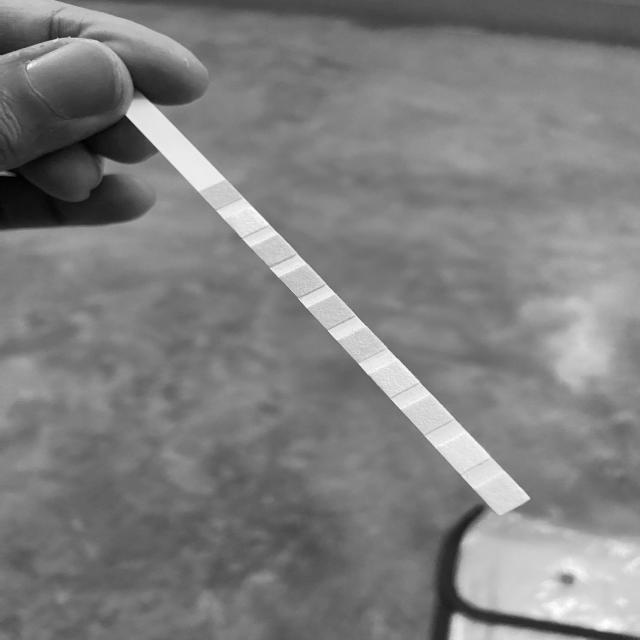Bilirubin: (234, 214, 260, 229)
Blood: (319, 302, 344, 321)
Glucose: (209, 188, 234, 202)
Ketone: (261, 242, 289, 258)
Leukocytes: (487, 482, 516, 504)
Nitrite: (448, 442, 477, 461)
Protein: (381, 368, 406, 390)
SpGravity: (288, 273, 316, 287)
Urobilinogen: (412, 404, 441, 422)
background: (0, 0, 640, 640)
pH: (348, 335, 376, 354)
strip: (126, 102, 529, 514)
